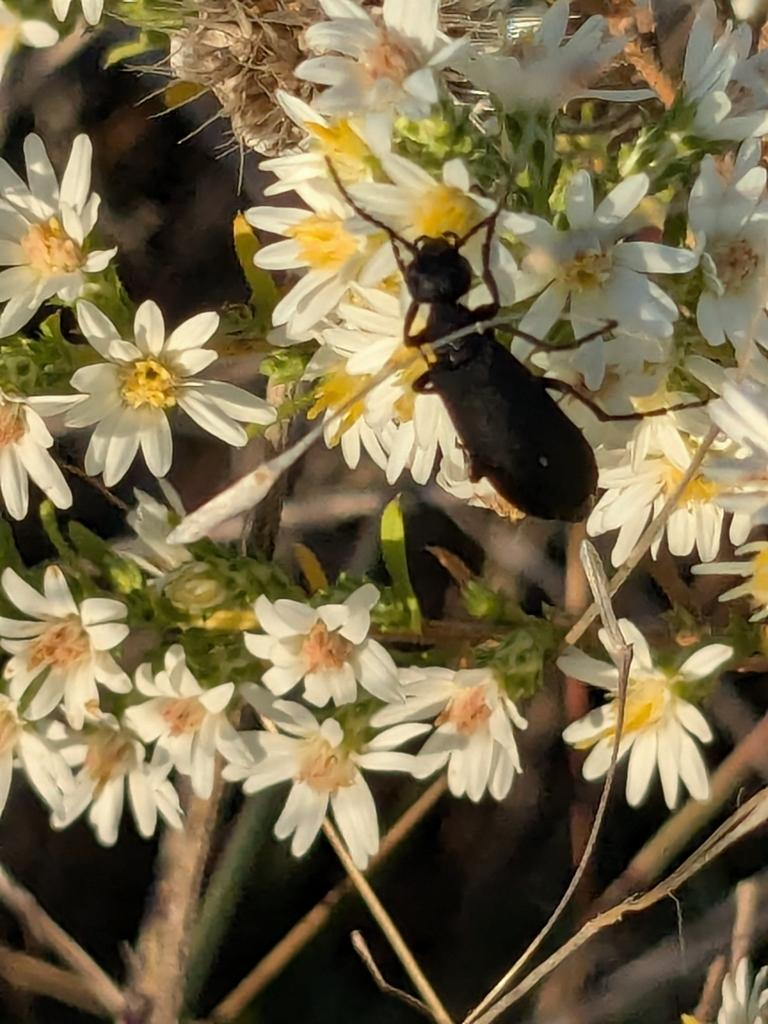blister_beetle: (266, 115, 693, 577)
